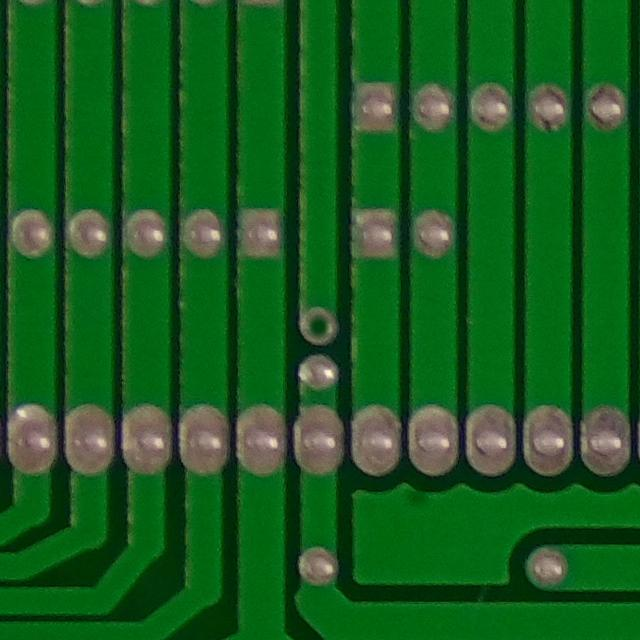missing_hole: (294, 298, 345, 351)
